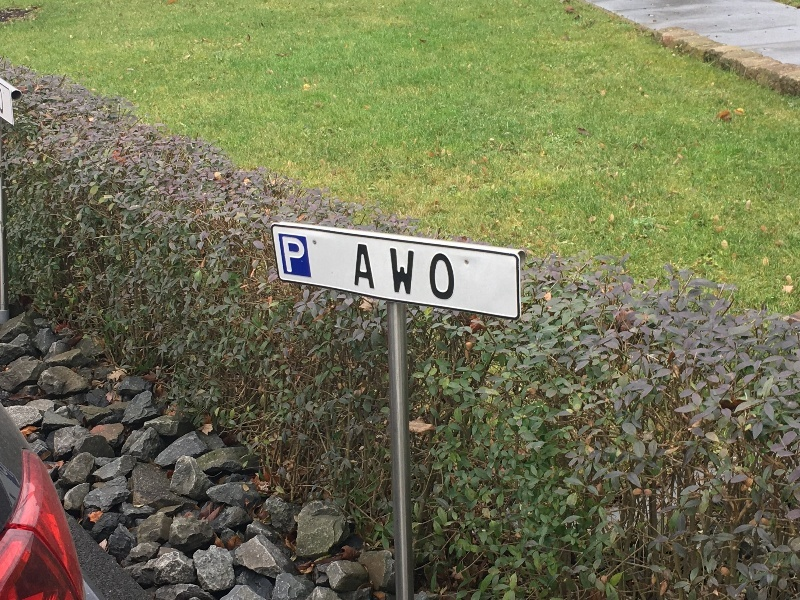text: (369, 242, 384, 304), (385, 242, 400, 304), (401, 242, 416, 304), (417, 242, 432, 304), (433, 242, 448, 304), (449, 242, 462, 304), (356, 242, 368, 304), (289, 236, 304, 273), (281, 236, 288, 273), (305, 236, 309, 273)
